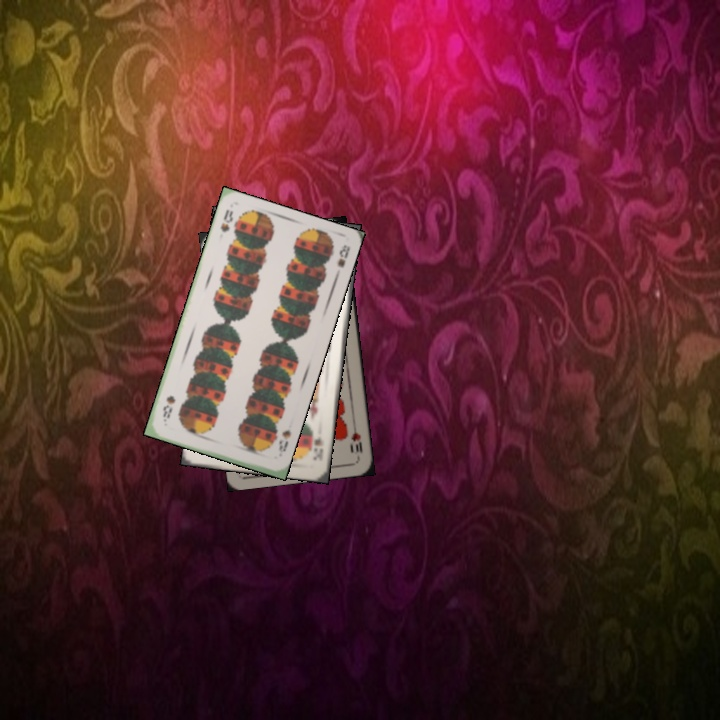H10: (347, 420, 365, 456)
S8: (275, 425, 294, 459), (216, 205, 236, 235)
SK: (309, 432, 326, 464)
